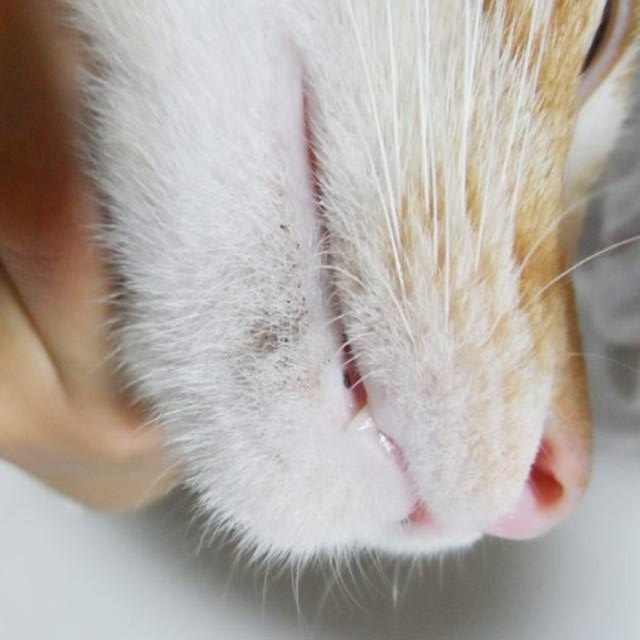acne: (239, 214, 308, 409)
